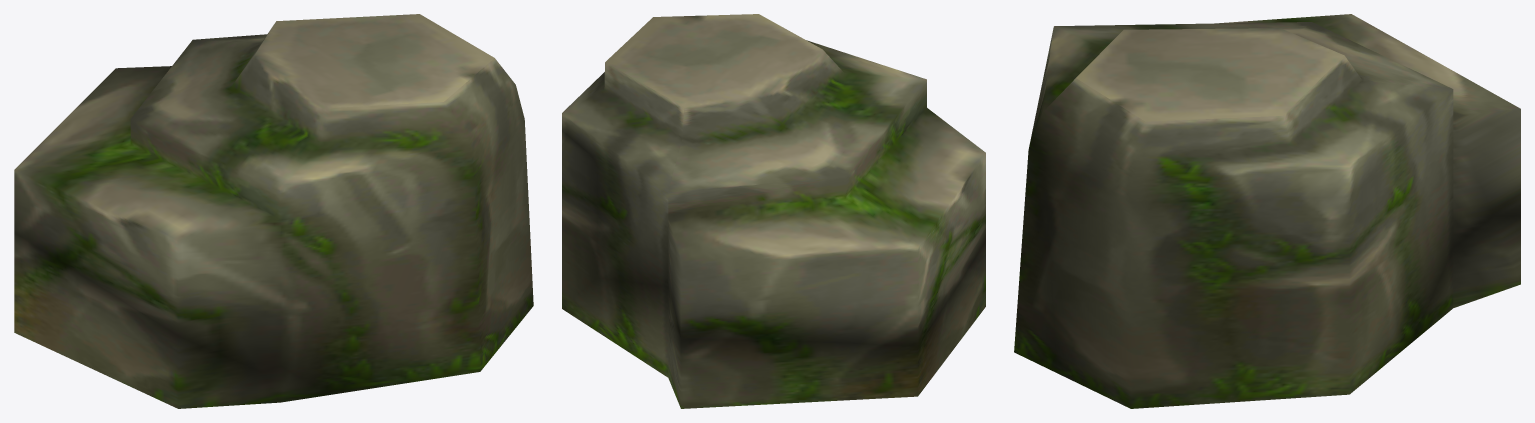
Rendered from RockFormation_4_5 (12).fbx.
3 views of the same model, side by side, from view 1: azimuth 30°, elevation 25°; view 2: azimuth 150°, elevation 25°; view 3: azimuth 270°, elevation 25° (orthographic). The views are drawn at different scales.
Visible parts, largest first — view 1: RockFormation_4_5 (12); view 2: RockFormation_4_5 (12); view 3: RockFormation_4_5 (12).
Boxes of the visible parts, box(x1,y1,x2,y2) form: RockFormation_4_5 (12): box(14, 14, 533, 408); RockFormation_4_5 (12): box(562, 14, 985, 408); RockFormation_4_5 (12): box(1014, 14, 1520, 408).
Size of the model in its own units: 207 by 119 by 202.
